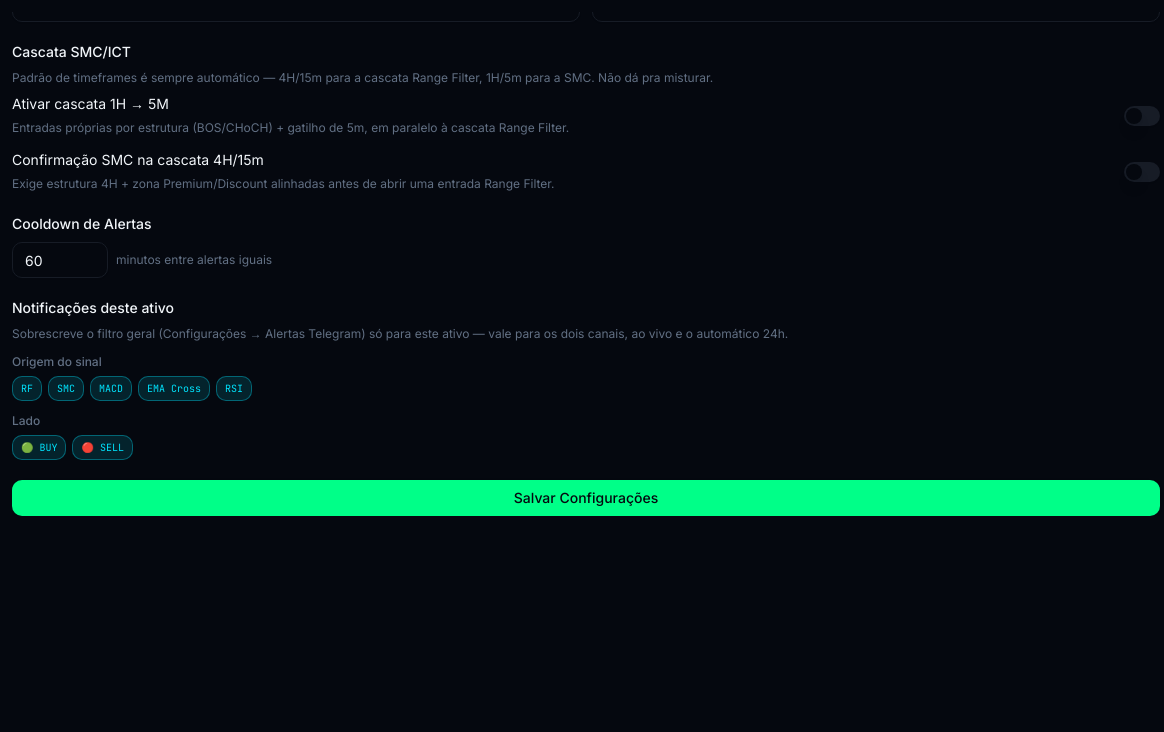
AssetConfigPanel — erro ao salvar explica causa provável (Round 3 pós-Raio-X) › REGRESSÃO: mostra "verifique sua conexão e tente de novo" quando o save falha
(page scrolled)
Click the button "Salvar Configurações". click: [586, 498]
box: [12,480,1160,516]
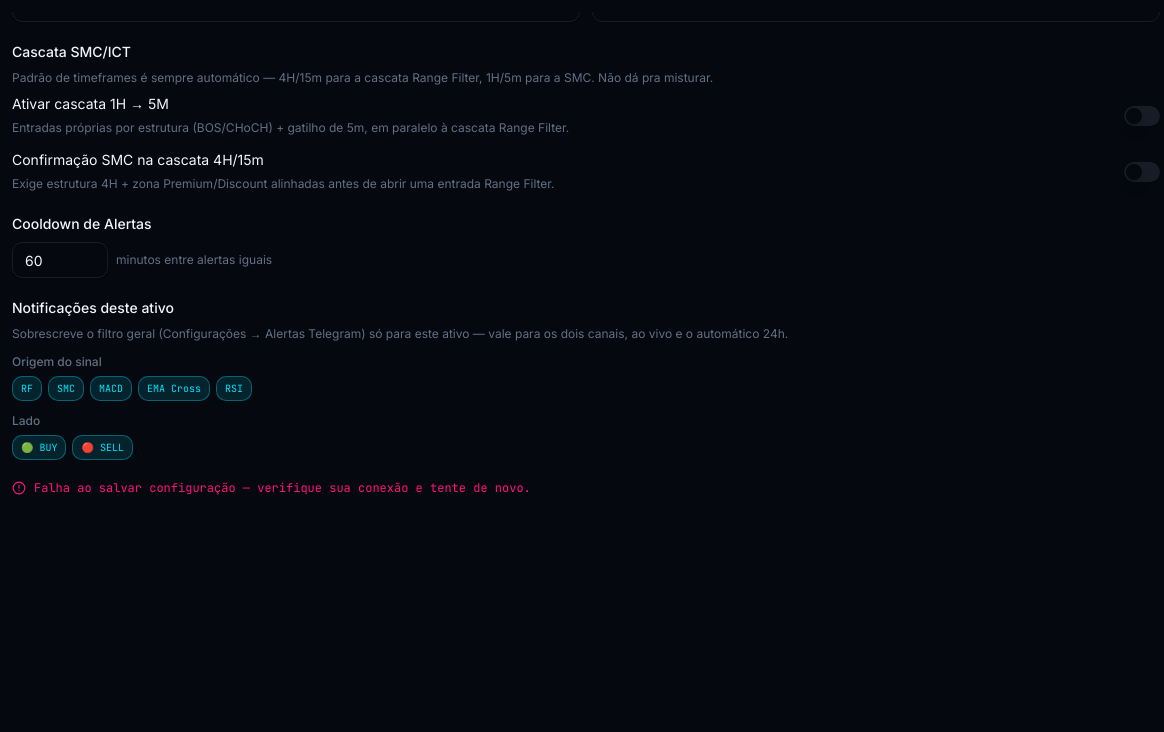
Expected: the text "verifique sua conexão e tente de novo" is shown, [34,480,531,496]
